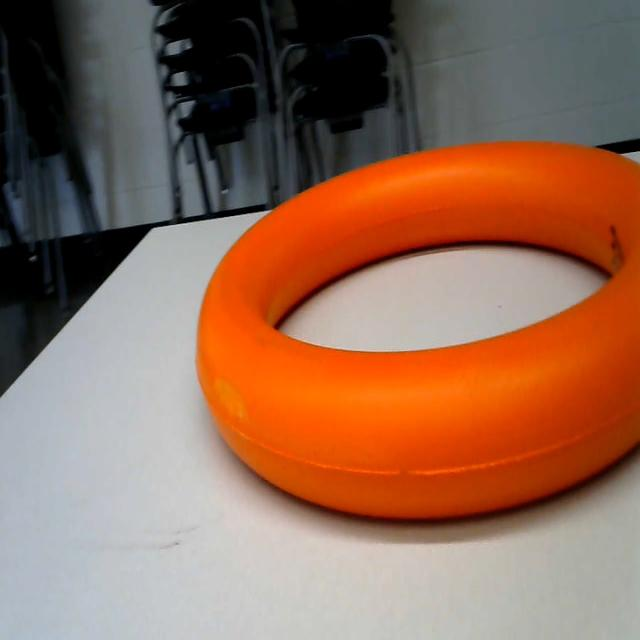note: (179, 121, 640, 565)
